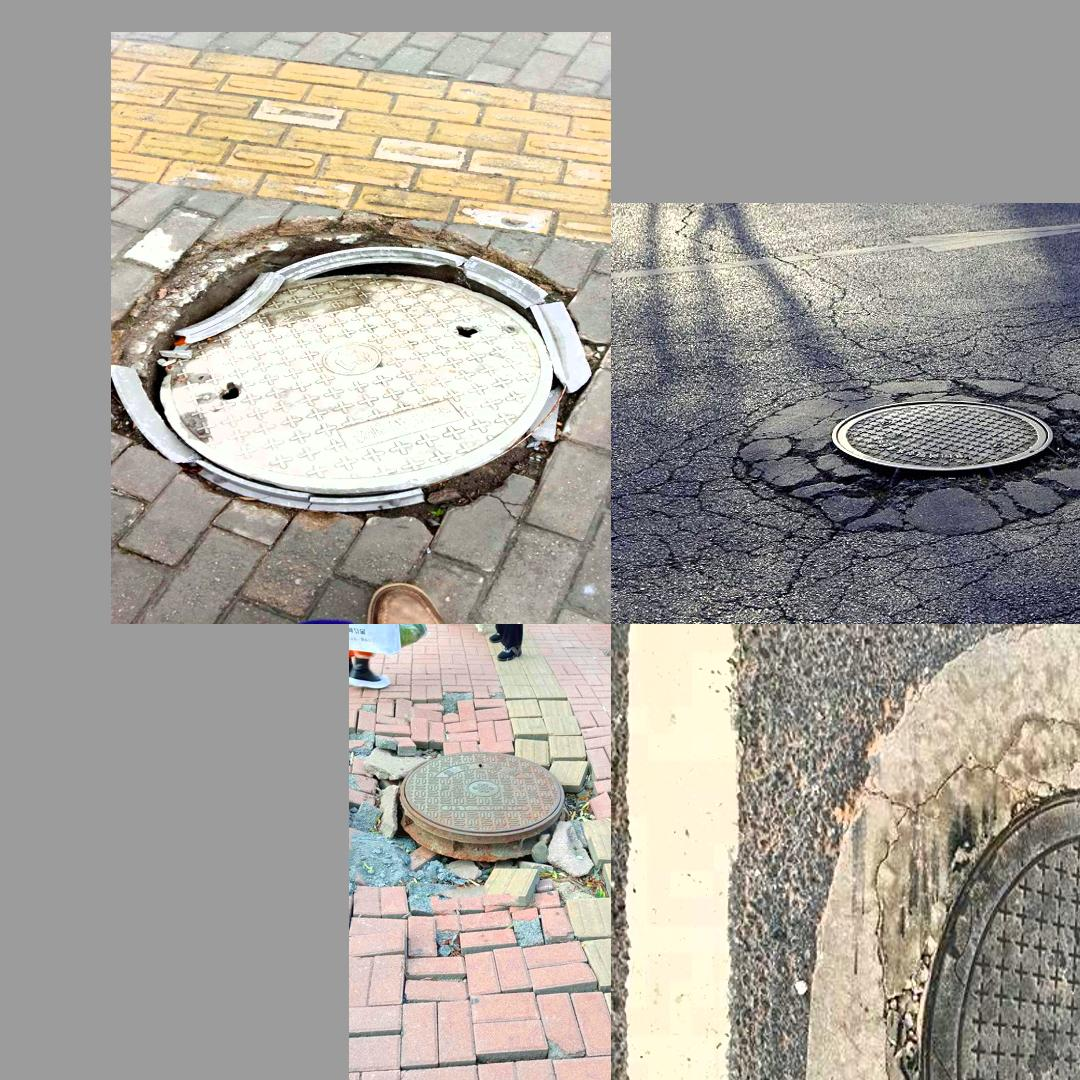circle: (115, 217, 603, 527), (804, 647, 1080, 1080), (720, 372, 1080, 555), (352, 704, 605, 963)
